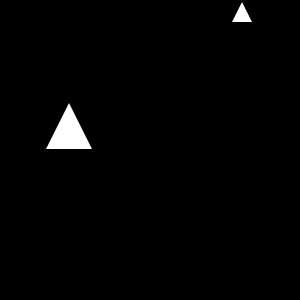triangle: (46, 103, 92, 149), (232, 2, 252, 22)
